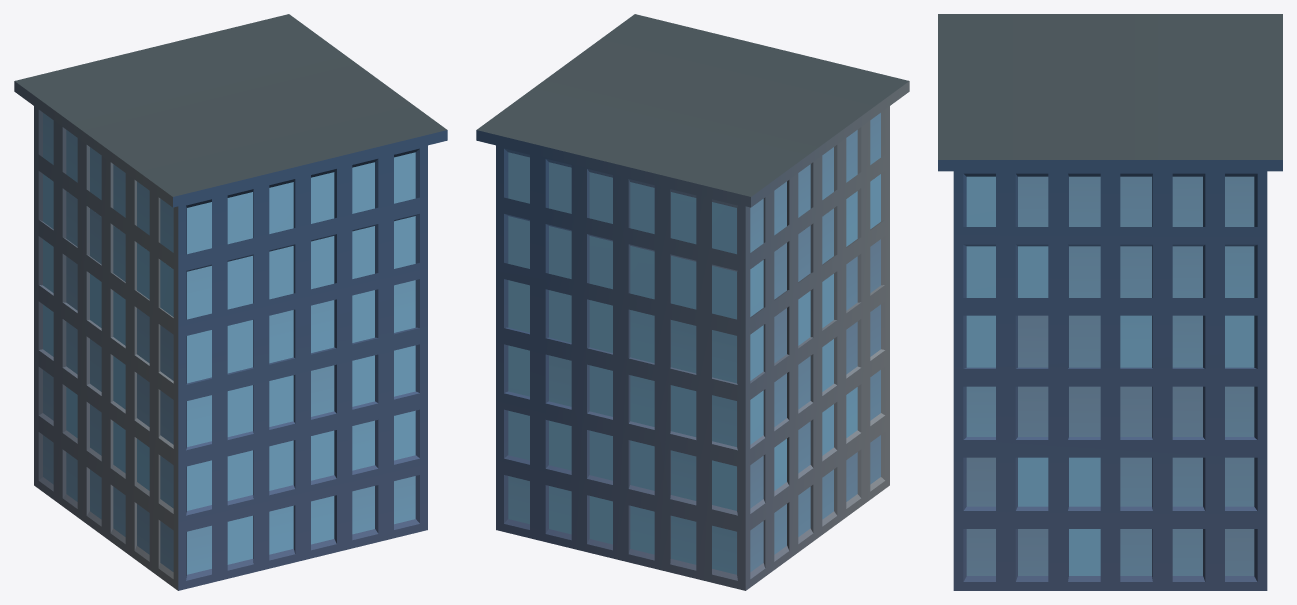
The picture shows the model from 3 angles, left to right: view 1: azimuth 30°, elevation 25°; view 2: azimuth 150°, elevation 25°; view 3: azimuth 270°, elevation 25°; orthographic projection. The views are drawn at different scales.
Visible parts, largest first — view 1: bina 1; view 2: bina 1; view 3: bina 1.
Boxes of the visible parts, x1=… form: bina 1: x1=14, y1=14, x2=447, y2=590; bina 1: x1=476, y1=14, x2=909, y2=590; bina 1: x1=938, y1=14, x2=1282, y2=590.
Bounding box in the file's own units: 440 × 616 × 440.
